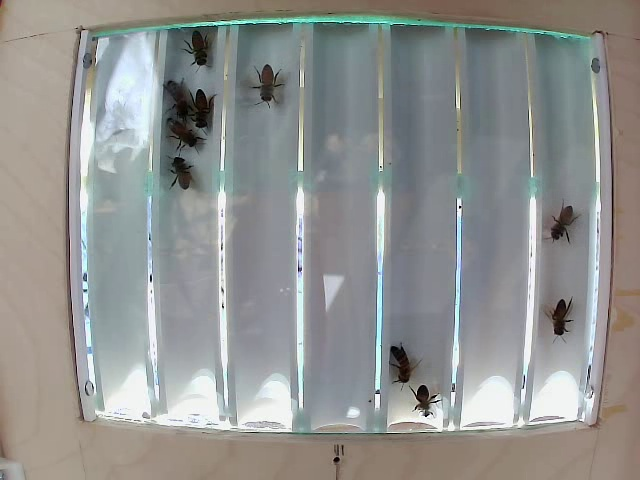bee: (407, 380, 449, 422), (532, 203, 574, 244), (164, 145, 199, 194), (253, 55, 286, 99), (546, 288, 575, 335), (186, 88, 219, 129), (156, 120, 192, 150), (385, 331, 415, 366), (162, 78, 188, 116), (187, 29, 208, 68)
